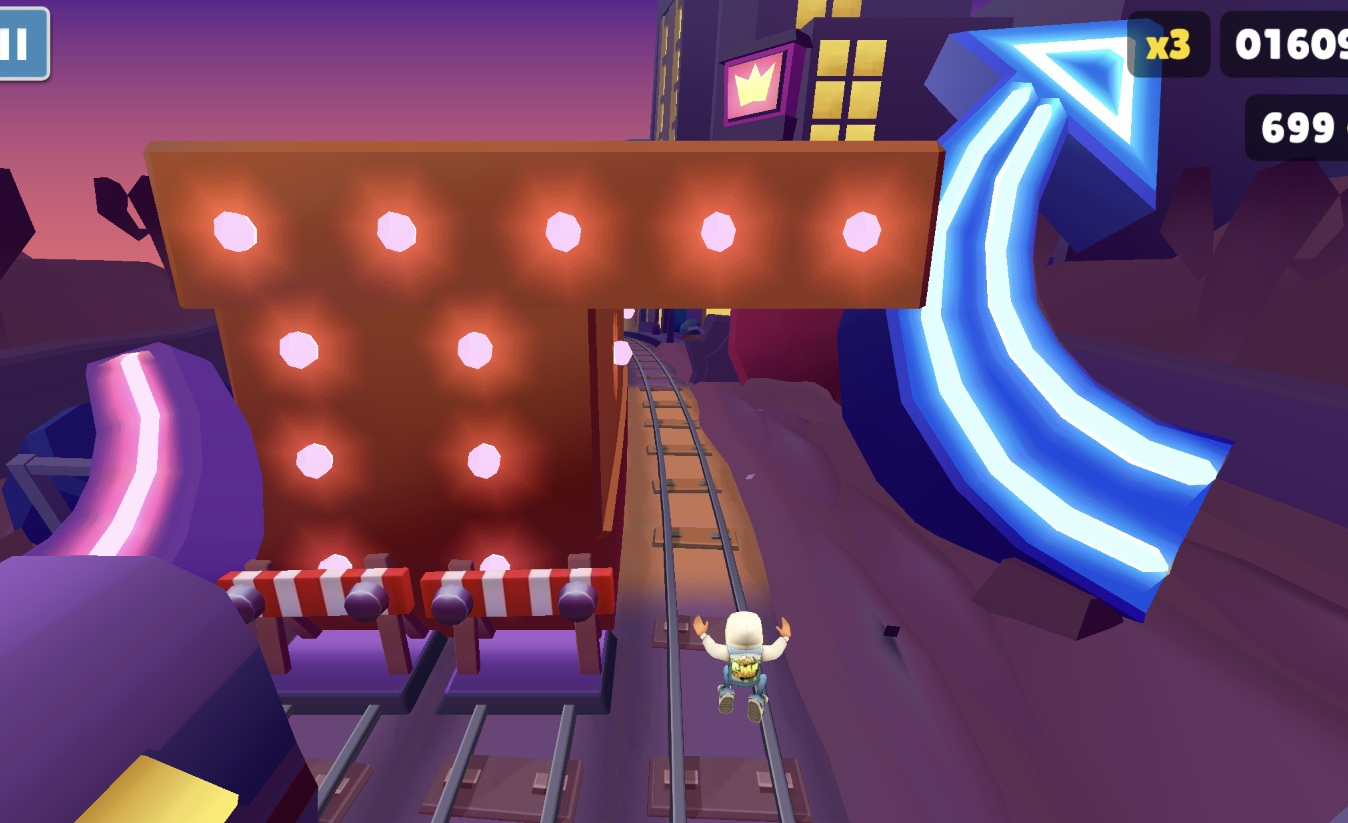ground_barrier: (425, 563, 620, 713), (219, 563, 415, 710)
pillar: (212, 307, 627, 573)
train: (0, 556, 324, 823)
